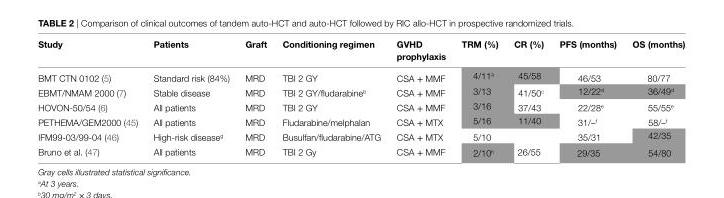table: (37, 37, 684, 158)
table column: (273, 37, 388, 158), (37, 37, 144, 158), (144, 37, 236, 158), (550, 37, 623, 158), (388, 37, 452, 158), (623, 37, 684, 158), (452, 37, 505, 158), (505, 37, 550, 158), (236, 37, 273, 158)
table column header: (37, 37, 684, 65)
table row: (37, 37, 684, 65), (37, 65, 684, 85), (37, 99, 684, 114), (37, 114, 684, 129), (37, 129, 684, 144), (37, 85, 684, 99), (37, 144, 684, 158)
